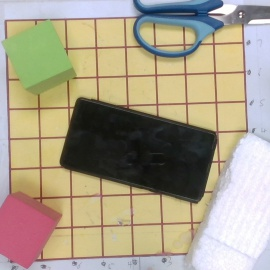phone: (59, 96, 217, 206)
